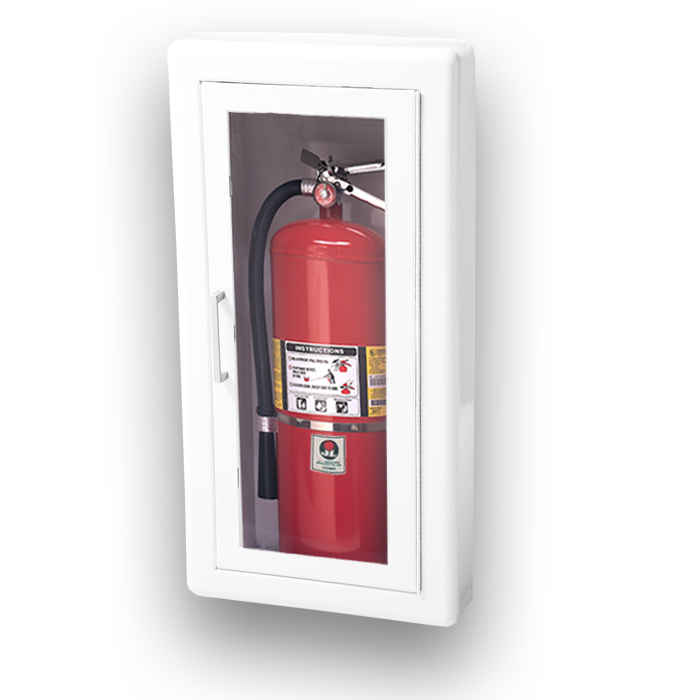fire: (248, 150, 389, 565)
